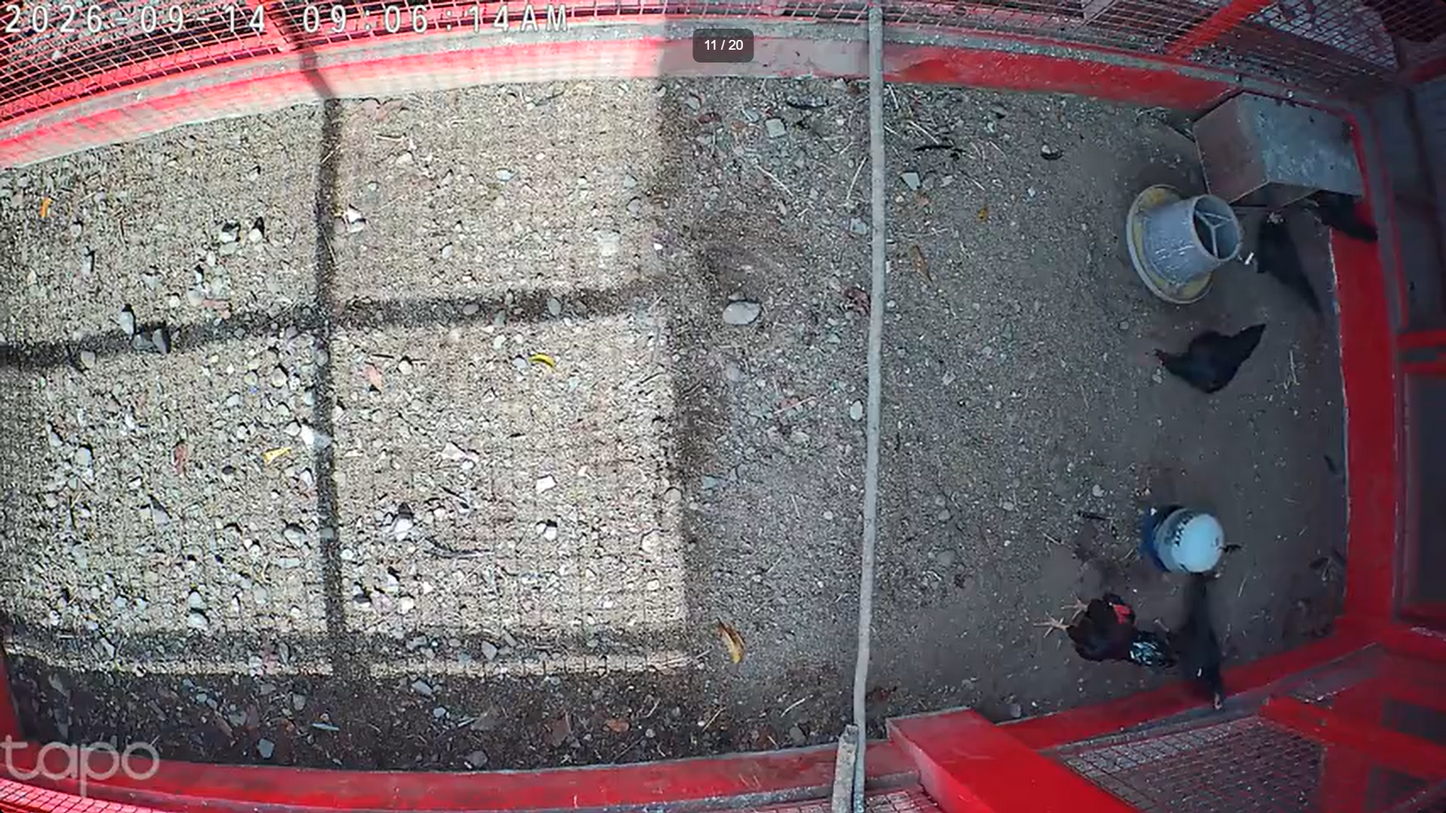Chicken: (1233, 207, 1326, 323), (1154, 318, 1270, 394)
Rooster: (1029, 584, 1175, 672)
